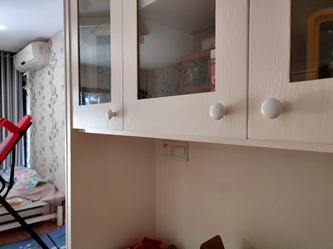switch: (174, 145, 186, 157)
